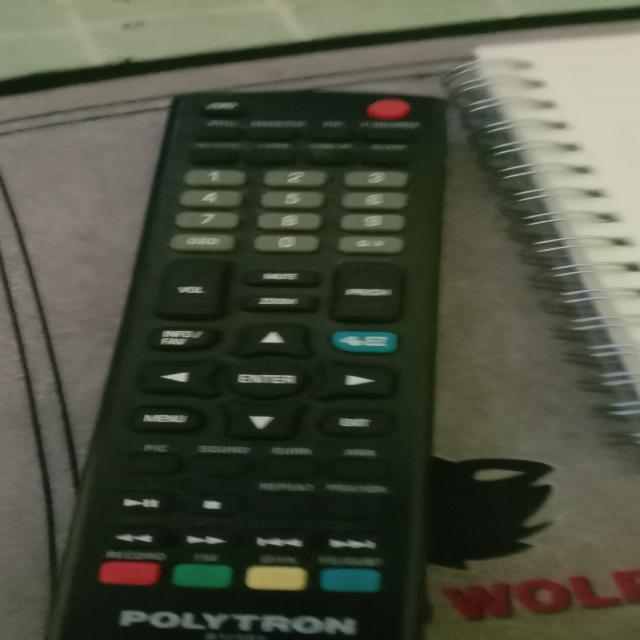remote: (36, 86, 456, 640)
